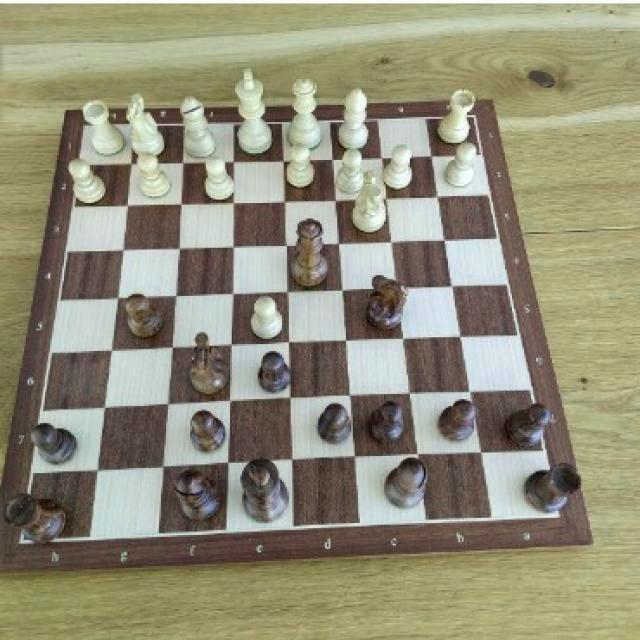chess-table-corners: (552, 509, 570, 524), (15, 536, 29, 552), (473, 110, 478, 121), (80, 121, 86, 127)
